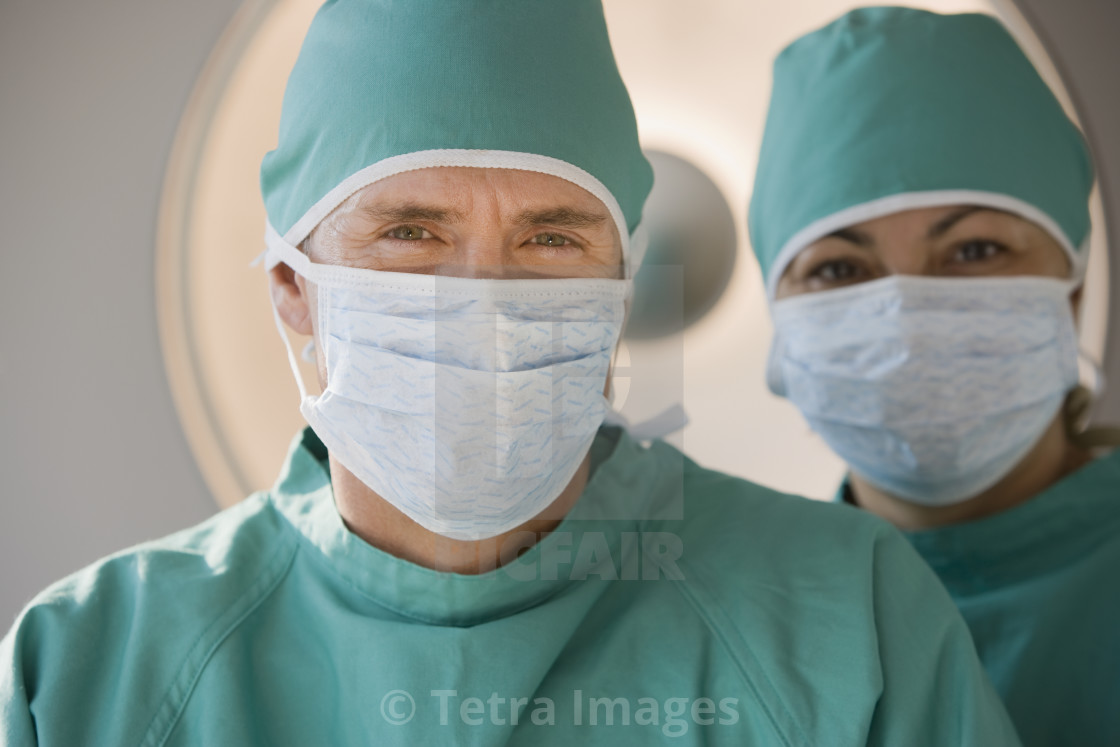surgical: (279, 256, 635, 550), (759, 277, 1091, 511)
